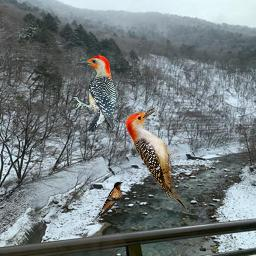Swallow: (94, 181, 123, 219)
Woodpecker: (125, 107, 187, 212), (73, 55, 118, 132)
